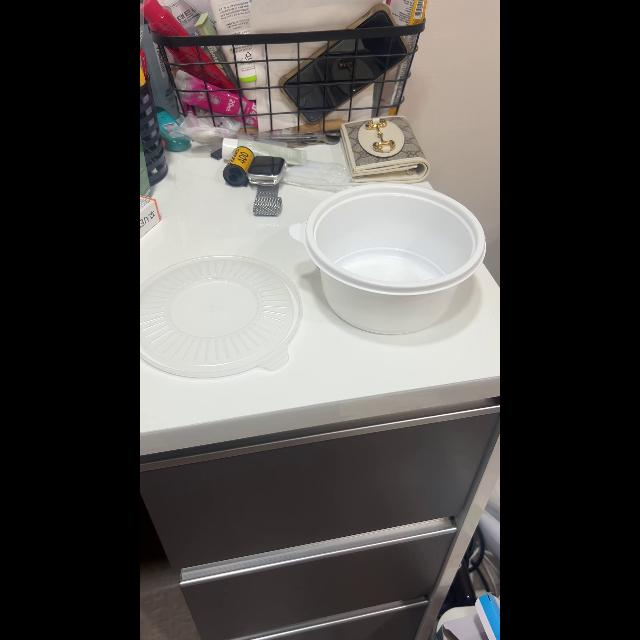clean: (307, 186, 493, 338), (143, 258, 304, 382)
